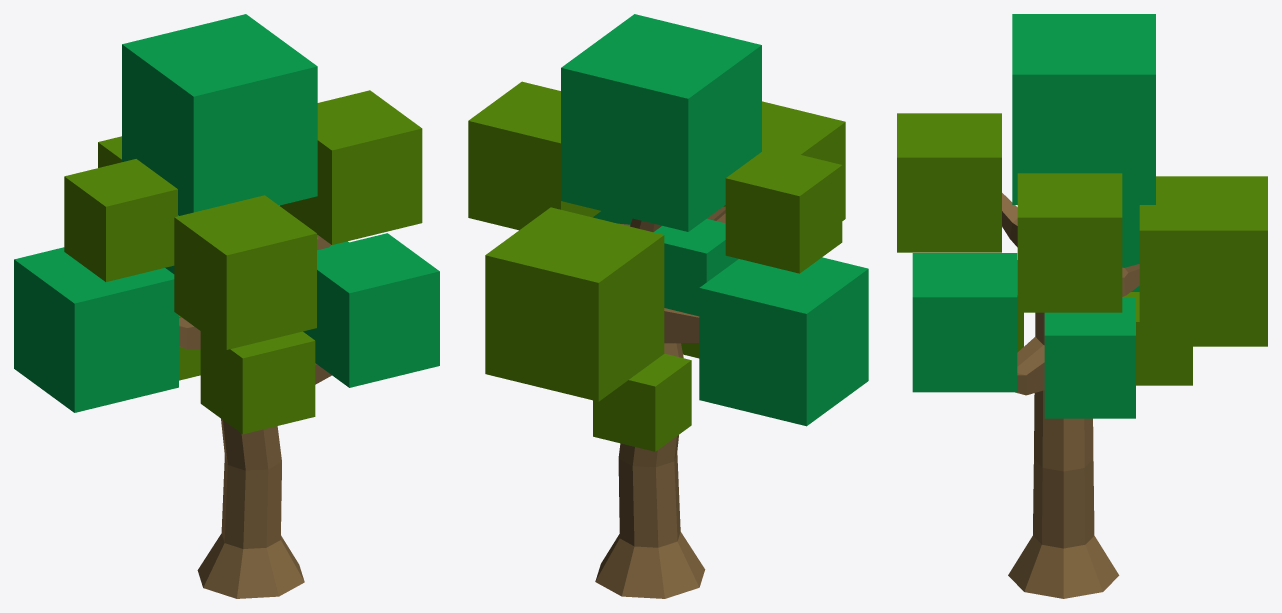
File: Tree_3.fbx
3 renders of one model, left to right at view 1: azimuth 30°, elevation 25°; view 2: azimuth 150°, elevation 25°; view 3: azimuth 270°, elevation 25°, orthographic. The views are drawn at different scales.
Parts seen in each view (by area): view 1: leaf, stem; view 2: leaf, stem; view 3: leaf, stem.
Part boxes in pixels (bbox=[...]): leaf: bbox=[14, 14, 439, 434]; stem: bbox=[179, 234, 331, 598]; leaf: bbox=[468, 14, 868, 451]; stem: bbox=[595, 206, 725, 598]; leaf: bbox=[897, 14, 1267, 418]; stem: bbox=[1002, 193, 1139, 598].
Size of the model in its own units: 268 by 388 by 250.
